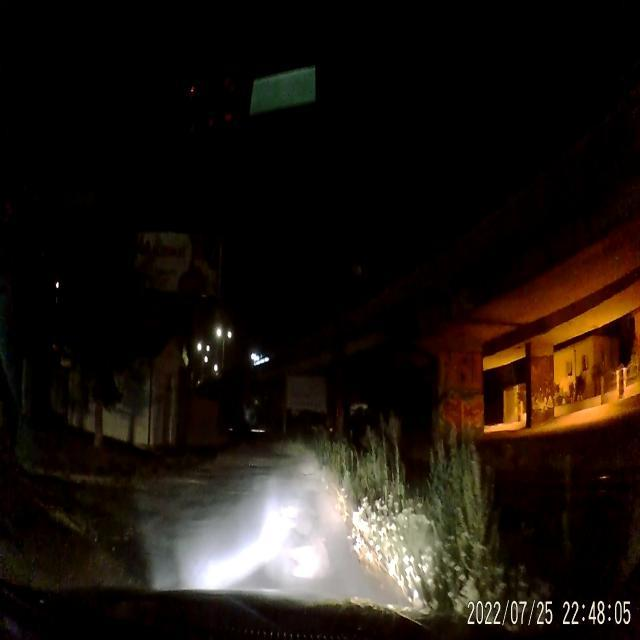Pothole: (288, 536, 330, 580)
